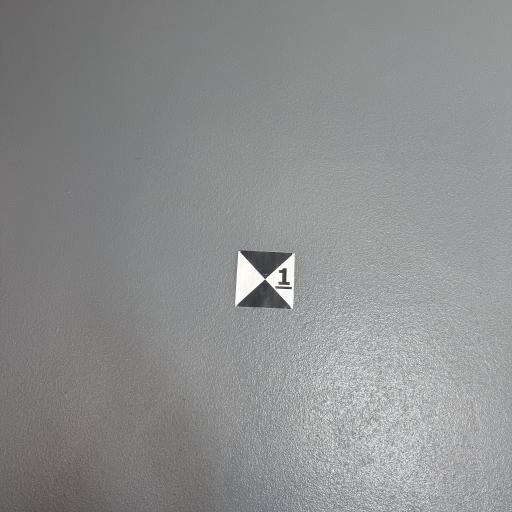target1: (239, 246, 297, 312)
